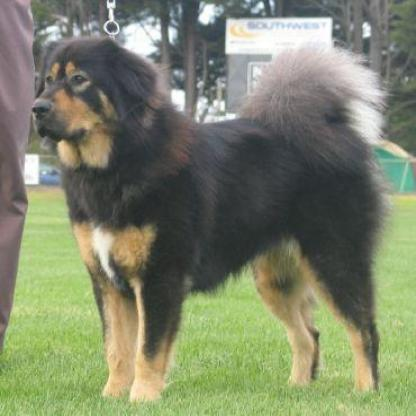Tibetan_mastiff: (28, 31, 386, 403)
